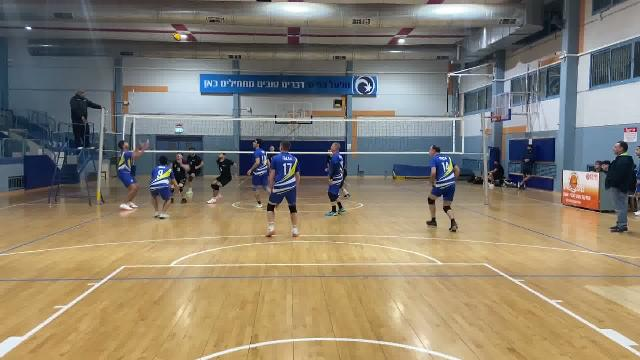ball: (171, 32, 184, 43)
